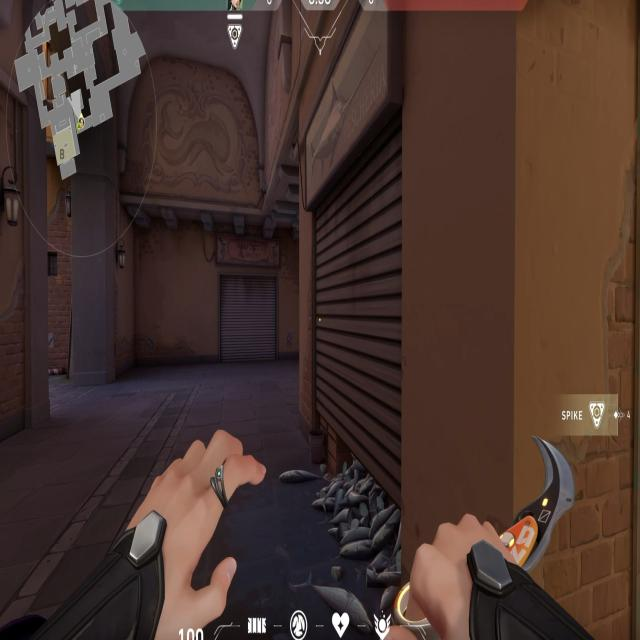B_Main_Corner: (298, 0, 426, 548)
